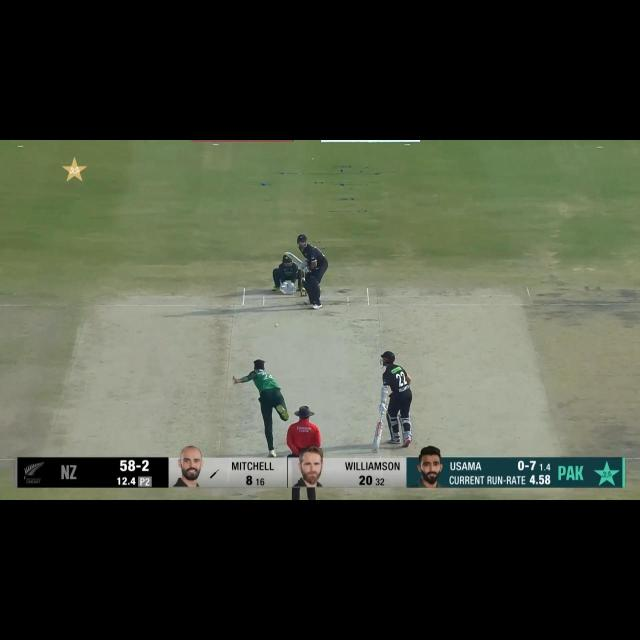bat: (371, 420, 383, 454), (283, 252, 303, 265)
toe: (371, 446, 382, 454), (283, 252, 292, 257)
